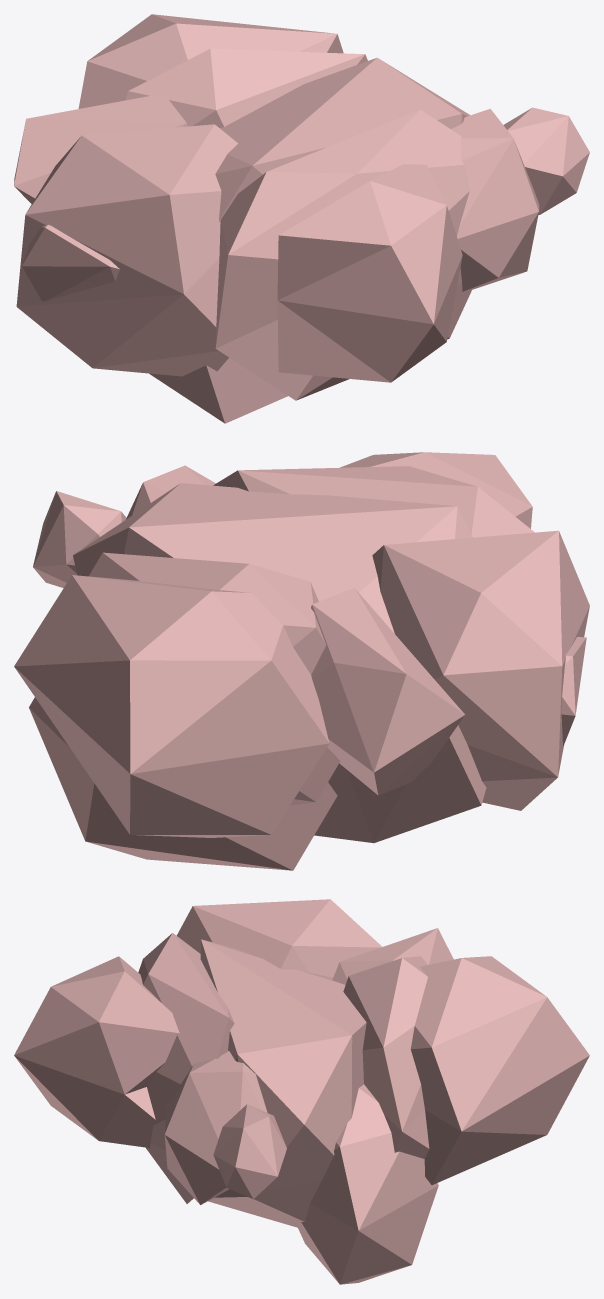
Rendered from SpiritCloud02.fbx.
The picture shows the model from 3 angles, top to bottom: view 1: azimuth 30°, elevation 25°; view 2: azimuth 150°, elevation 25°; view 3: azimuth 270°, elevation 25°; orthographic projection. The views are drawn at different scales.
Parts seen in each view (by area): view 1: SpiritCloud2; view 2: SpiritCloud2; view 3: SpiritCloud2.
Part boxes in pixels (box(x1,y1,x2,y2)): SpiritCloud2: box(14, 14, 589, 423); SpiritCloud2: box(14, 452, 589, 870); SpiritCloud2: box(14, 899, 589, 1284).
Bounding box in the file's own units: 4.91 × 2.82 × 5.36.
